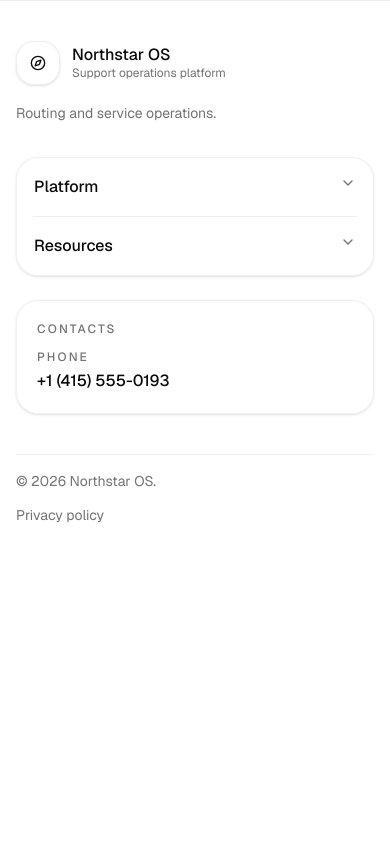
Scenario: Footer variants › renders dynamic FooterColumns groups and toggles the mobile accordion
Click the button "Resources" at (73, 246), box x1=33 y1=217 x2=357 y2=275
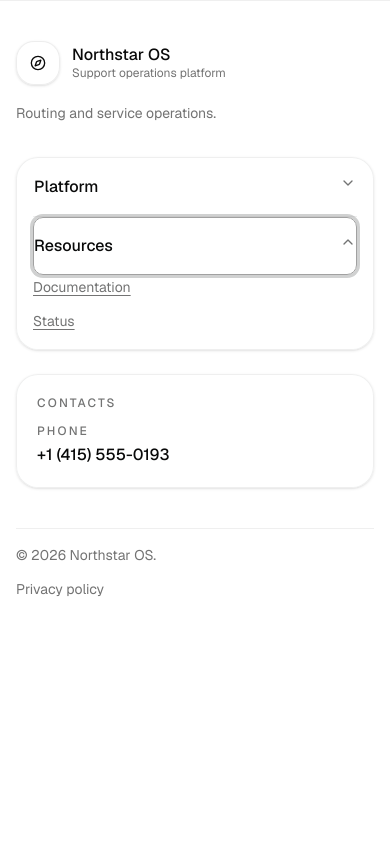
Expected: the element "Resources" is shown, x1=16 y1=157 x2=374 y2=350
Now the button "Resources" is expanded
Now the link "Documentation" is shown, box x1=33 y1=275 x2=131 y2=299
Click the button "Resources" at (73, 246), box x1=33 y1=217 x2=357 y2=275
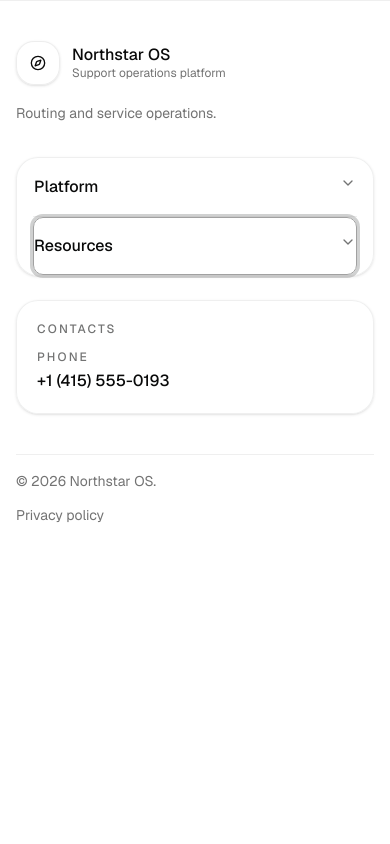
Now the button "Resources" is collapsed, box x1=33 y1=217 x2=357 y2=275
